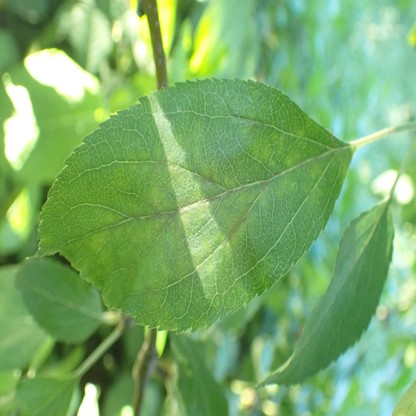scab: (106, 126, 324, 287)
